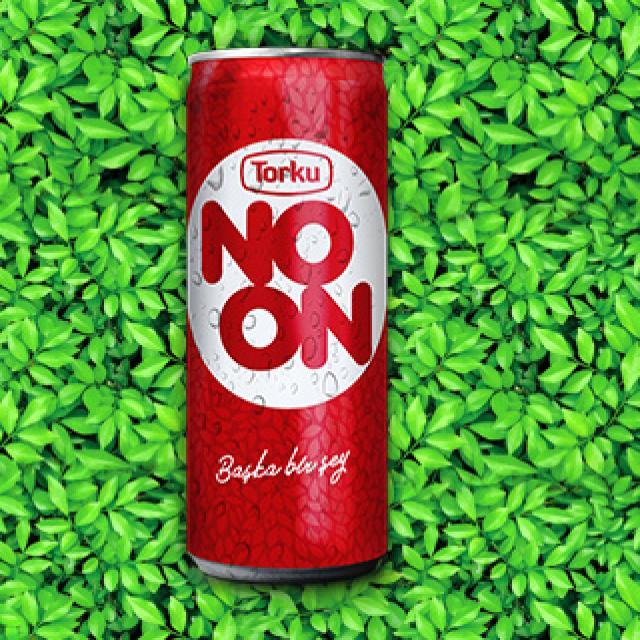Dry Waste: (190, 34, 392, 578)
